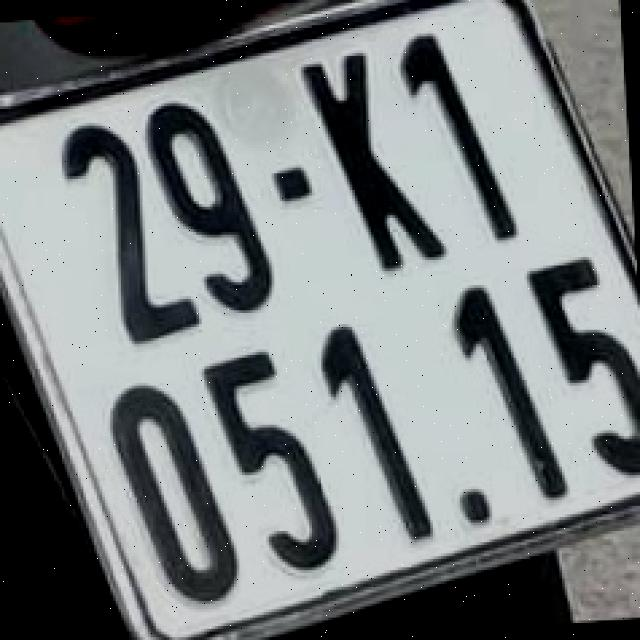0: (109, 379, 241, 605)
1: (324, 318, 440, 548), (406, 28, 524, 246), (456, 282, 566, 509)
2: (58, 114, 200, 350)
5: (207, 344, 344, 576), (535, 251, 640, 478)
9: (150, 96, 280, 318)
K: (304, 42, 441, 274)
